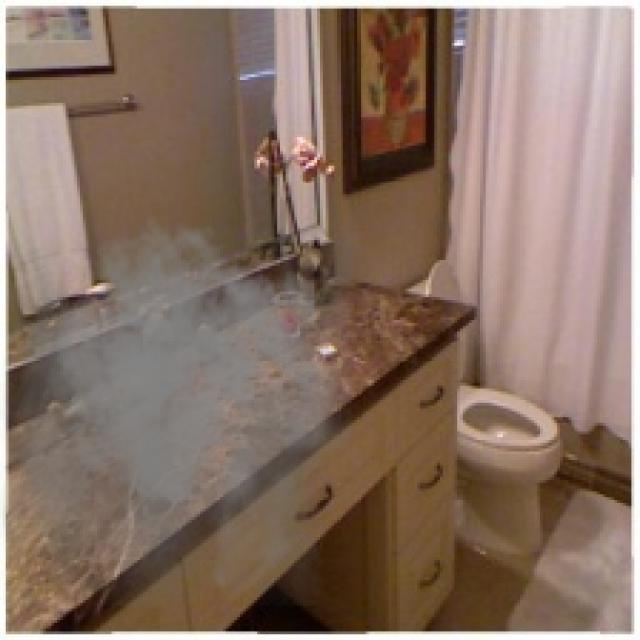Smoke: (0, 214, 355, 606)
